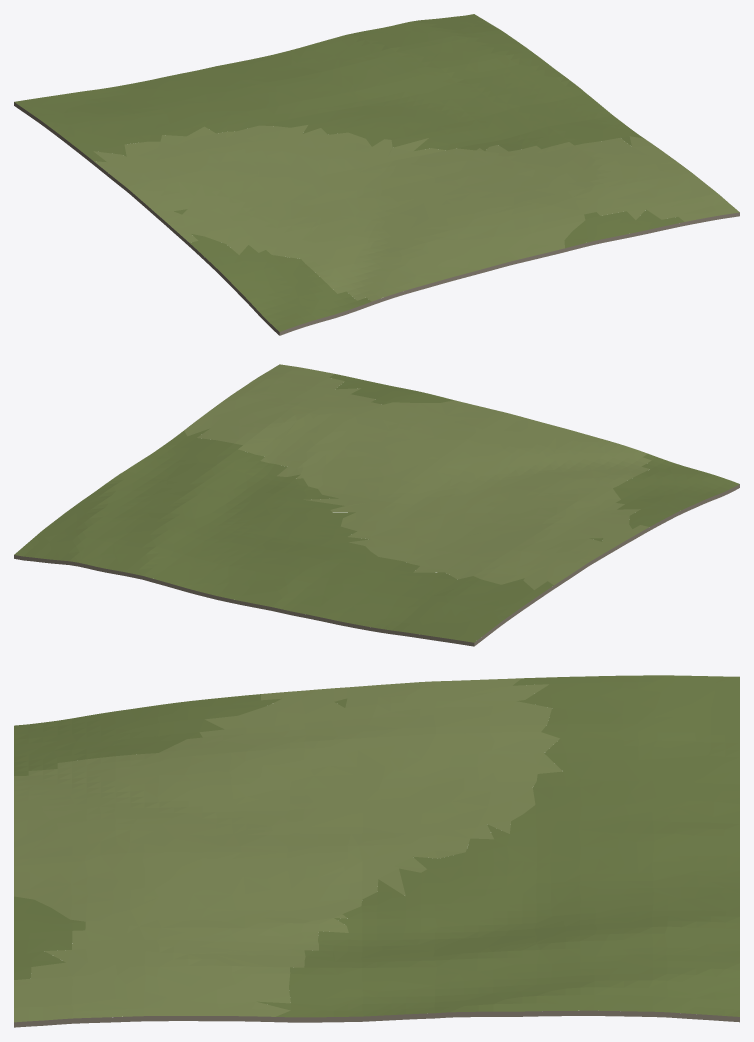
The model's file is parca_+8_-1-uzak.glb.
3 views of the same model, one above another, from view 1: azimuth 30°, elevation 25°; view 2: azimuth 150°, elevation 25°; view 3: azimuth 270°, elevation 25° (orthographic). The views are drawn at different scales.
Parts seen in each view (by area): view 1: parca_+8_-1_arazi_uzak; view 2: parca_+8_-1_arazi_uzak; view 3: parca_+8_-1_arazi_uzak.
Boxes of the visible parts, left/top/right/bottom form: parca_+8_-1_arazi_uzak: left=14, top=14, right=739, bottom=335; parca_+8_-1_arazi_uzak: left=14, top=364, right=739, bottom=646; parca_+8_-1_arazi_uzak: left=14, top=675, right=739, bottom=1027.
Size of the model in its own units: 1000 by 84.36 by 1000.
